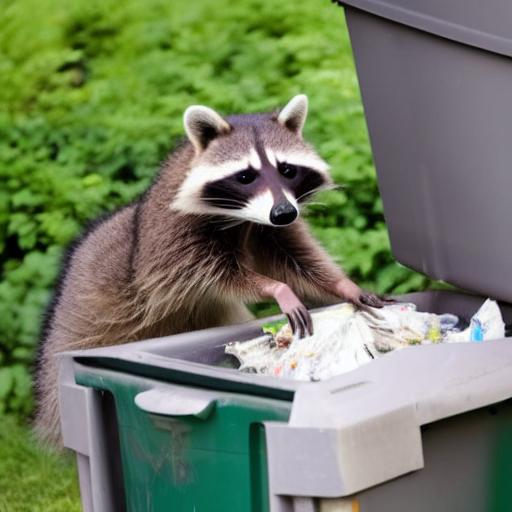raccoon: (38, 85, 345, 382)
